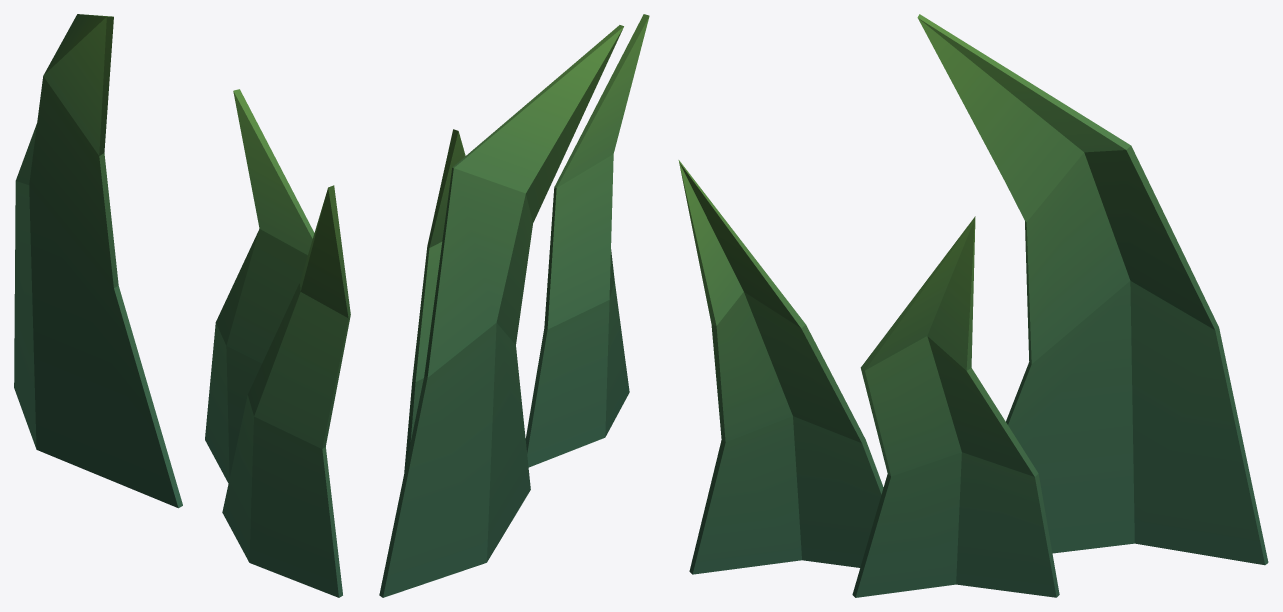
Rendered from Grass-2-4.fbx.
3 renders of one model, left to right at view 1: azimuth 30°, elevation 25°; view 2: azimuth 150°, elevation 25°; view 3: azimuth 270°, elevation 25°, orthographic. The views are drawn at different scales.
Visible parts, largest first — view 1: Grass-2-4; view 2: Grass-2-4; view 3: Grass-2-4.
Boxes of the visible parts, x1,y1,x2,y2 form: Grass-2-4: (14, 14, 350, 597); Grass-2-4: (379, 14, 649, 597); Grass-2-4: (678, 14, 1268, 597).
Size of the model in its own units: 11.54 by 29.66 by 31.26.
